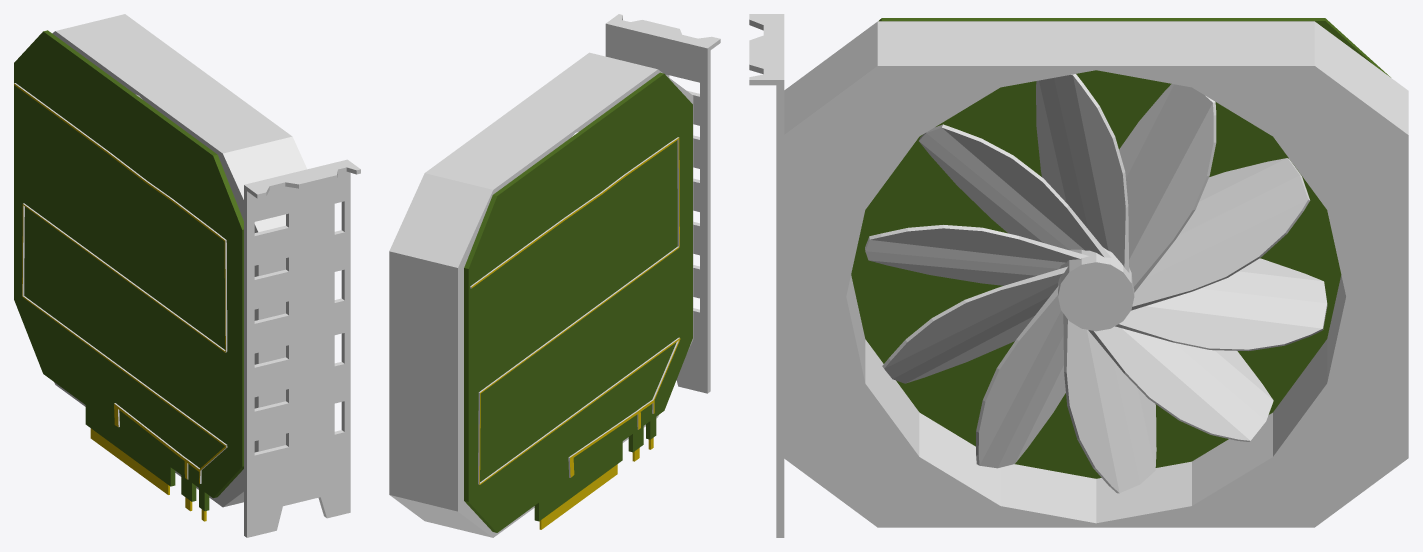
The model's file is Gpu1fB.fbx.
The picture shows the model from 3 angles, left to right: view 1: azimuth 30°, elevation 25°; view 2: azimuth 150°, elevation 25°; view 3: azimuth 270°, elevation 25°; orthographic projection. The views are drawn at different scales.
Visible parts, largest first — view 1: Gpu1FBlack; view 2: Gpu1FBlack; view 3: Gpu1FBlack.
Boxes of the visible parts, <box> form: Gpu1FBlack: <box>14,14,360,537</box>; Gpu1FBlack: <box>389,14,720,537</box>; Gpu1FBlack: <box>749,14,1408,537</box>.
Bounding box in the file's own units: 0.9493 × 3.28 × 4.01.
